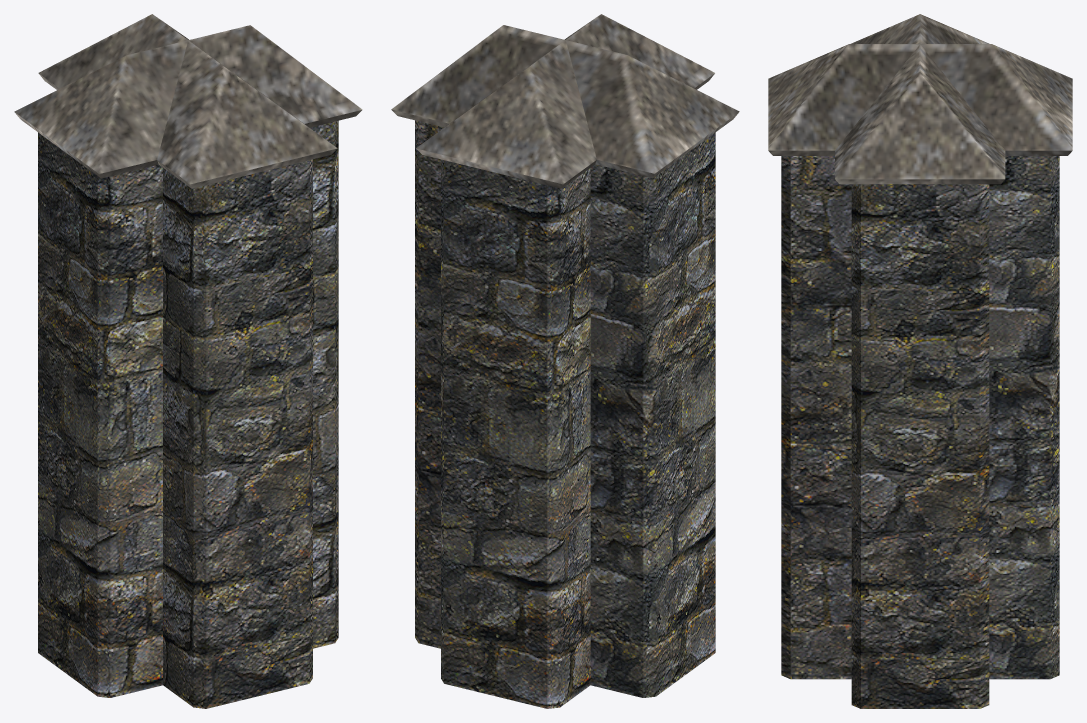
File: support_pillar_005.fbx
3 views of the same model, side by side, from view 1: azimuth 30°, elevation 25°; view 2: azimuth 150°, elevation 25°; view 3: azimuth 270°, elevation 25° (orthographic).
Visible parts, largest first — view 1: Cube.134; view 2: Cube.134; view 3: Cube.134.
Boxes of the visible parts, x1,y1,x2,y2 form: Cube.134: [14, 14, 362, 708]; Cube.134: [391, 14, 739, 708]; Cube.134: [768, 14, 1072, 708].
Bounding box in the file's own units: 175 × 384 × 175.
